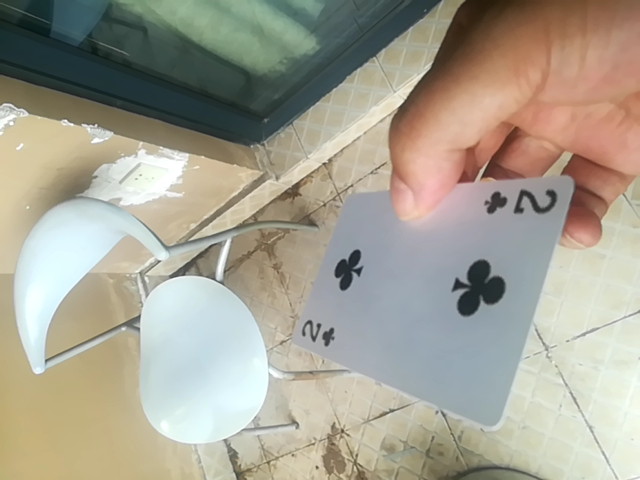mh 2: (294, 169, 567, 423)
